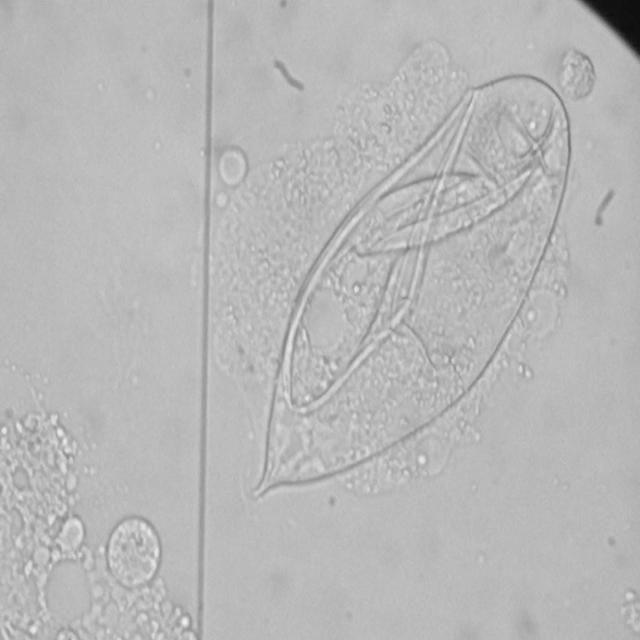Schistosoma: (242, 65, 580, 506)
